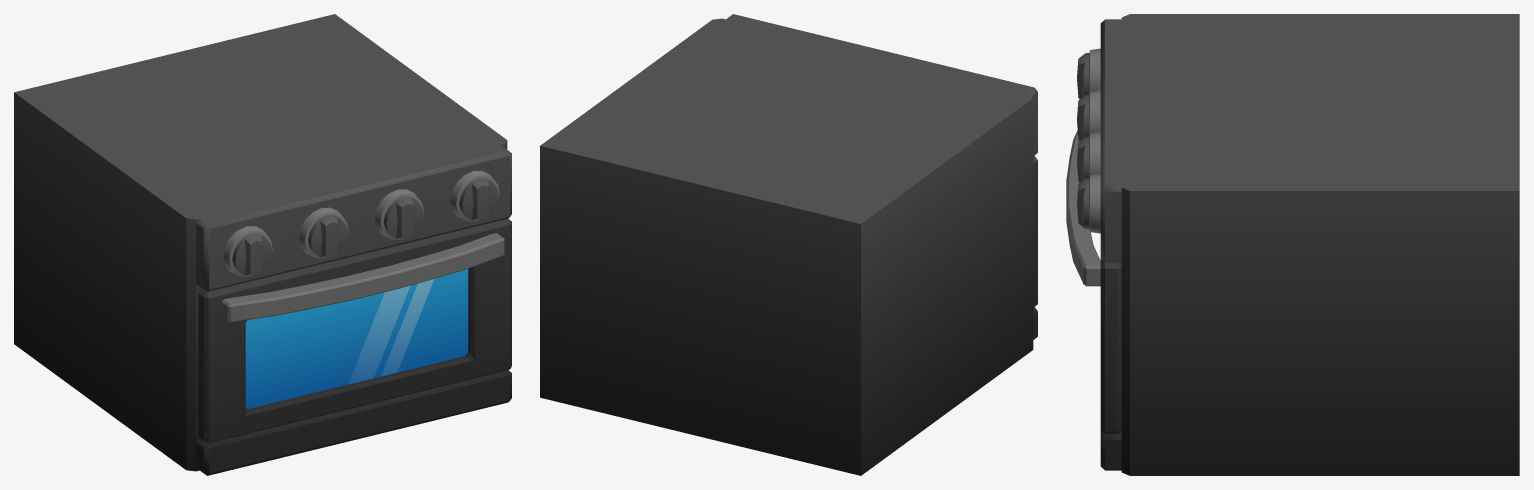
File: Counter_F_Stove_01_C01.fbx
3 views of the same model, side by side, from view 1: azimuth 30°, elevation 25°; view 2: azimuth 150°, elevation 25°; view 3: azimuth 270°, elevation 25° (orthographic). The views are drawn at different scales.
Parts seen in each view (by area): view 1: Counter_F_Stove_01_C01, Counter_F_Stove_01_C01_Door; view 2: Counter_F_Stove_01_C01, Counter_F_Stove_01_C01_Door; view 3: Counter_F_Stove_01_C01, Counter_F_Stove_01_C01_Door.
Part boxes in pixels (x1,y1,x2,y2): Counter_F_Stove_01_C01: [14, 14, 511, 475]; Counter_F_Stove_01_C01_Door: [198, 218, 511, 443]; Counter_F_Stove_01_C01: [540, 14, 1037, 475]; Counter_F_Stove_01_C01_Door: [1033, 156, 1037, 307]; Counter_F_Stove_01_C01: [1077, 14, 1519, 475]; Counter_F_Stove_01_C01_Door: [1066, 130, 1121, 433].
Bounding box in the file's own units: 100 × 75 × 108.
